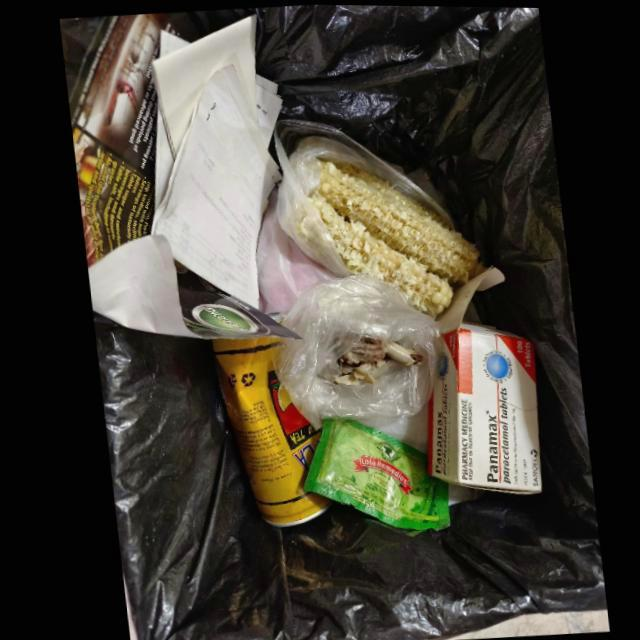aluminum: (208, 334, 326, 529)
cardboard: (423, 322, 539, 495)
left_over_food: (307, 161, 482, 316), (331, 335, 419, 385)
paper: (67, 13, 296, 340)
plastic_bag: (272, 119, 453, 279), (271, 274, 443, 429)
plastic_sachet: (299, 416, 445, 535)
